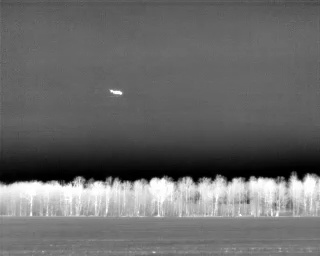DRONE: (107, 85, 126, 100)
